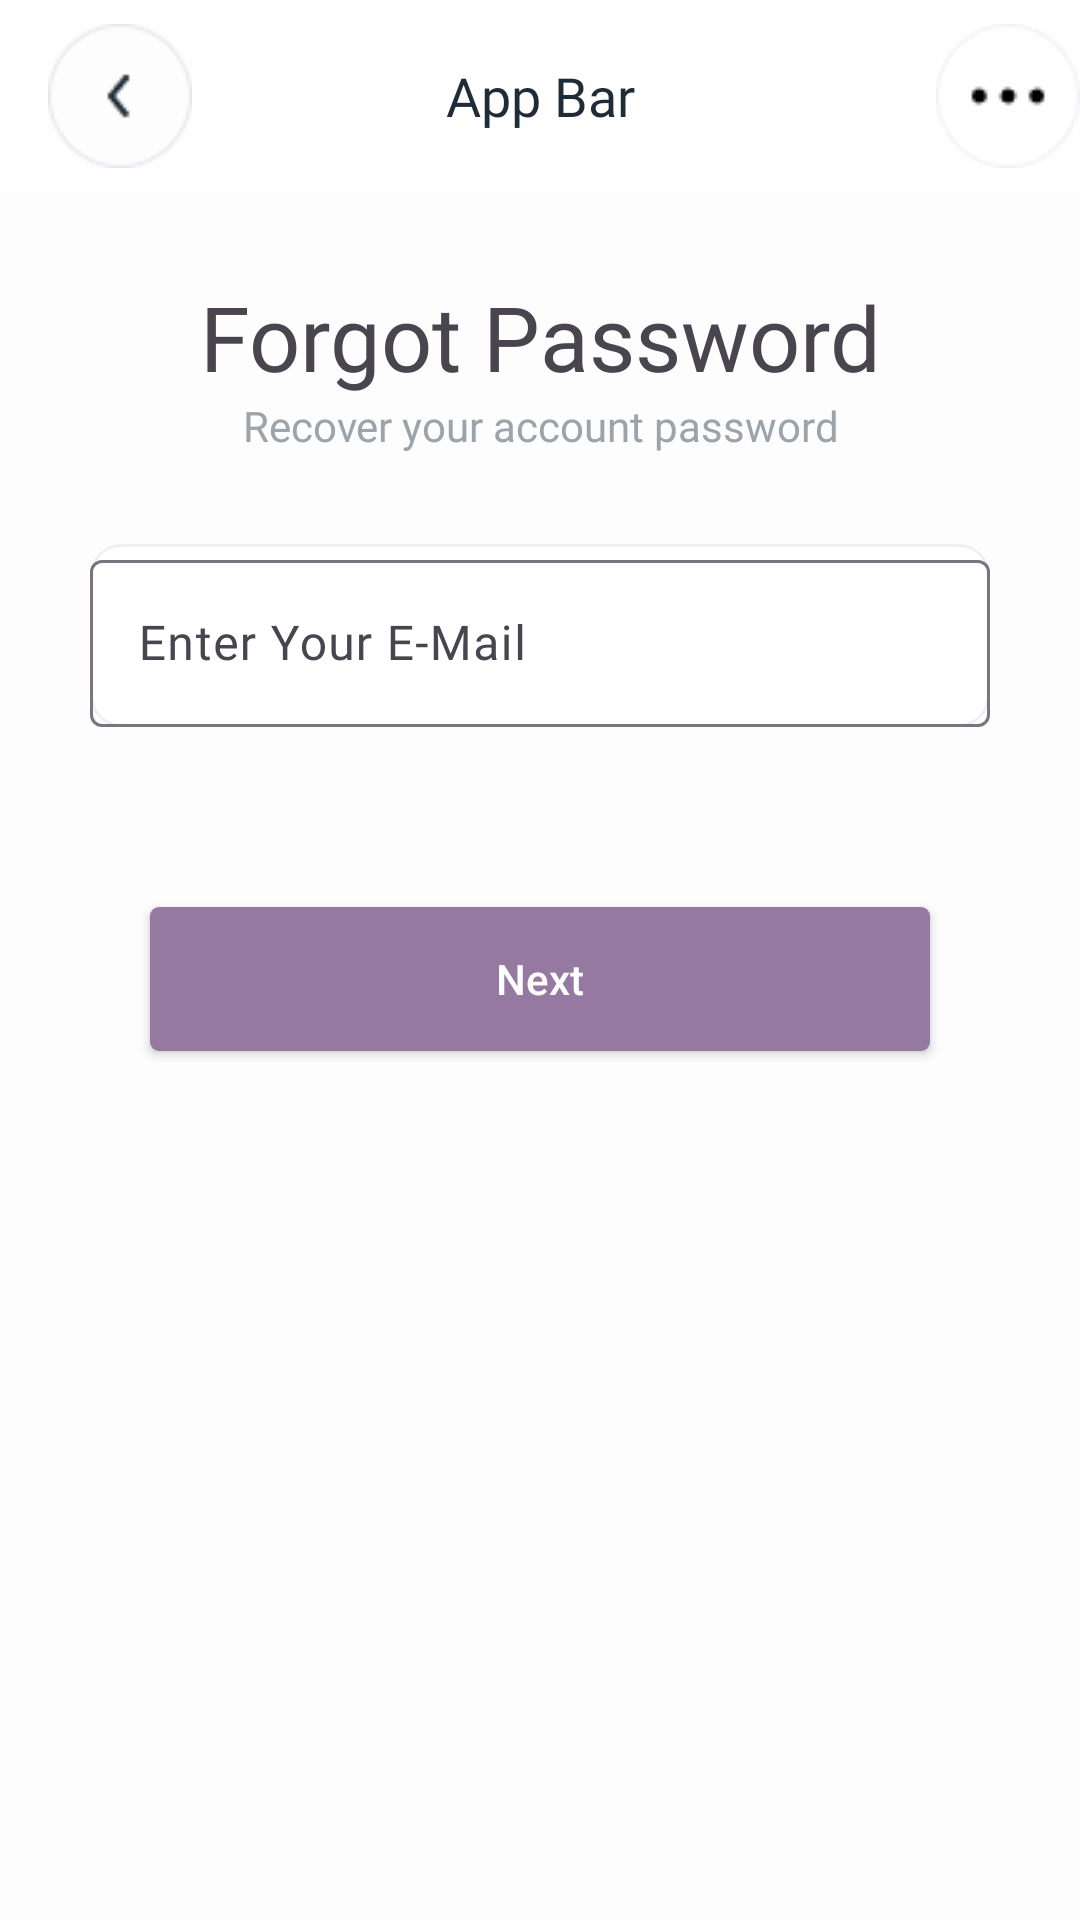

Locate icon controls on the screen. Image size 1080 x 1920, boxes as (x1, y1, x2, y2).
arrow back: (48, 24, 192, 168)
three dot: (971, 86, 1045, 106)
